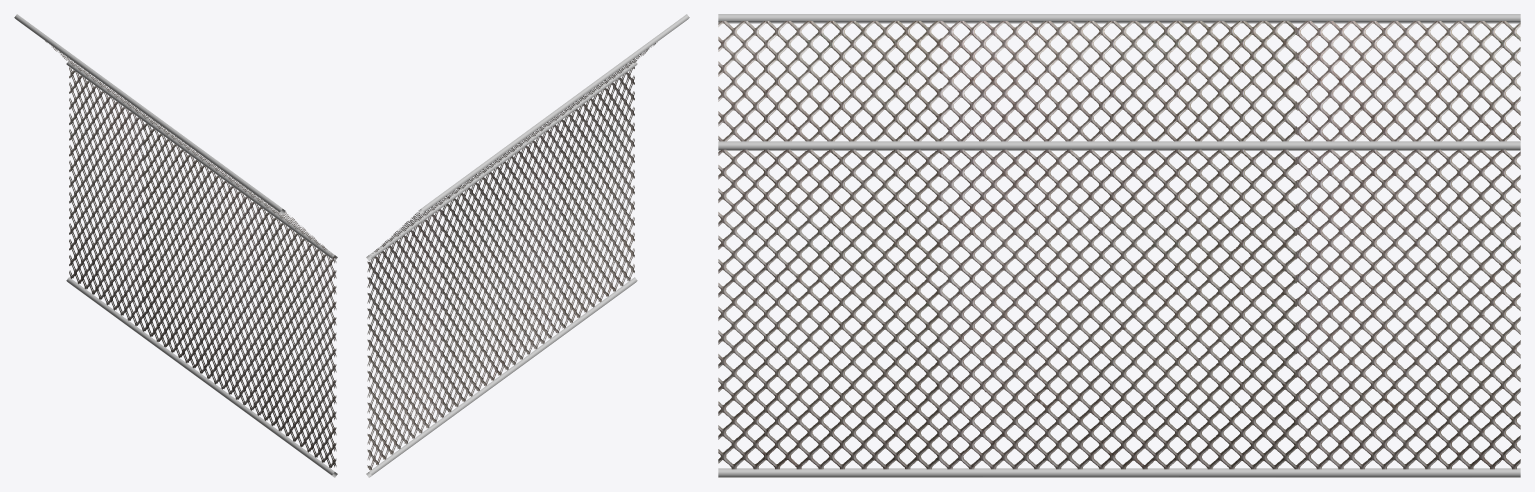
Rendered from Fence_04.fbx.
3 renders of one model, left to right at view 1: azimuth 30°, elevation 25°; view 2: azimuth 150°, elevation 25°; view 3: azimuth 270°, elevation 25°, orthographic. The views are drawn at different scales.
Visible parts, largest first — view 1: Fence_02, Fence_03; view 2: Fence_02, Fence_03; view 3: Fence_02, Fence_03.
Boxes of the visible parts, bbox=[...] form: Fence_02: bbox=[45, 41, 336, 467]; Fence_03: bbox=[14, 14, 337, 477]; Fence_02: bbox=[367, 42, 657, 470]; Fence_03: bbox=[366, 14, 689, 477]; Fence_02: bbox=[718, 21, 1520, 469]; Fence_03: bbox=[718, 14, 1520, 477].
Bounding box in the file's own units: 31.2 × 145 × 248.
